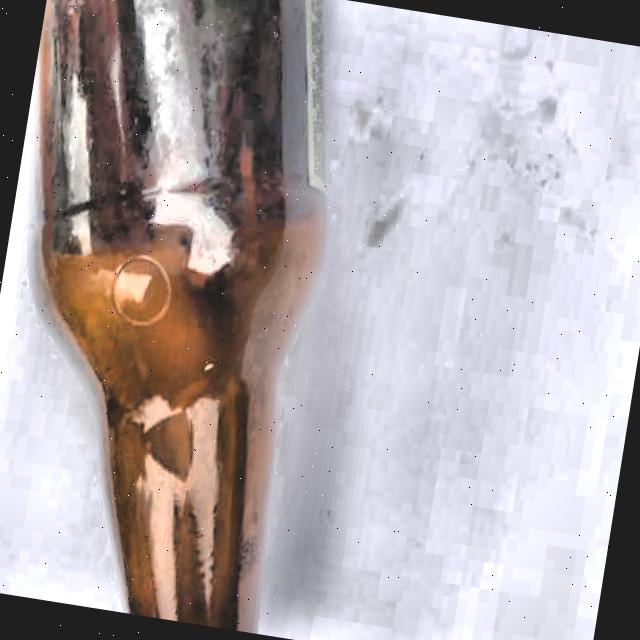glass: (0, 0, 373, 636)
